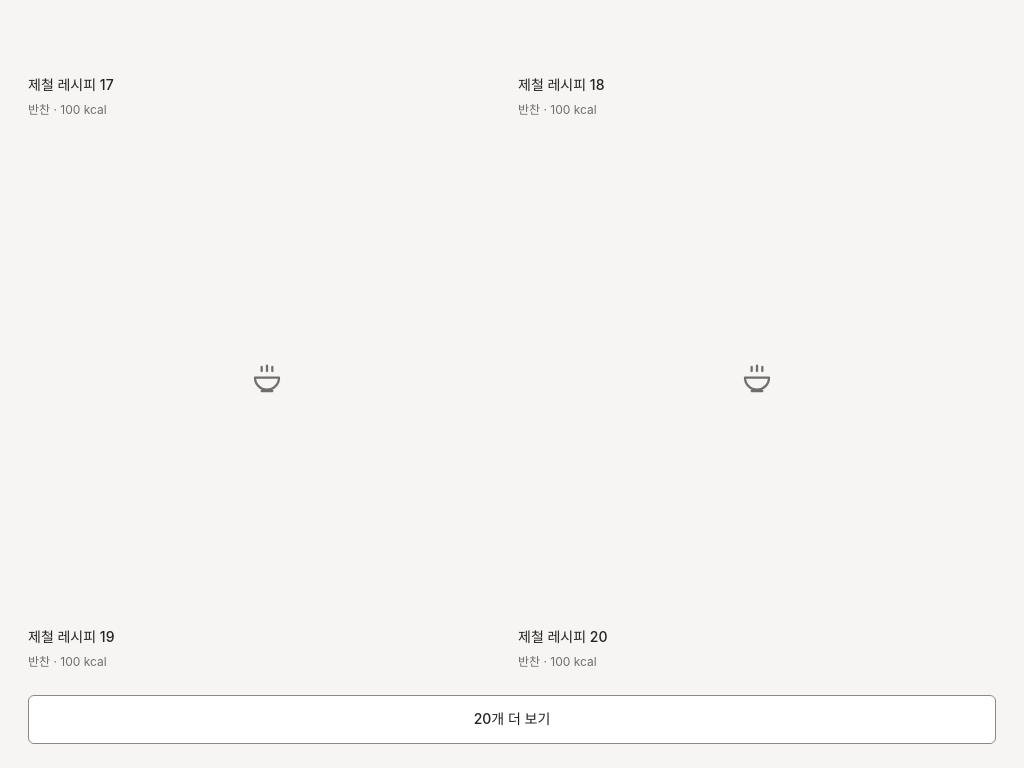
Scenario: 테마 전체보기 › 같은 월의 목록을 20개씩 누적하고 마지막 페이지에서 끝을 안내한다
The image size is (1024, 768).
(page scrolled)
Click the button "20개 더 보기". click: [512, 720]
box: [28,695,996,744]
(page scrolled)
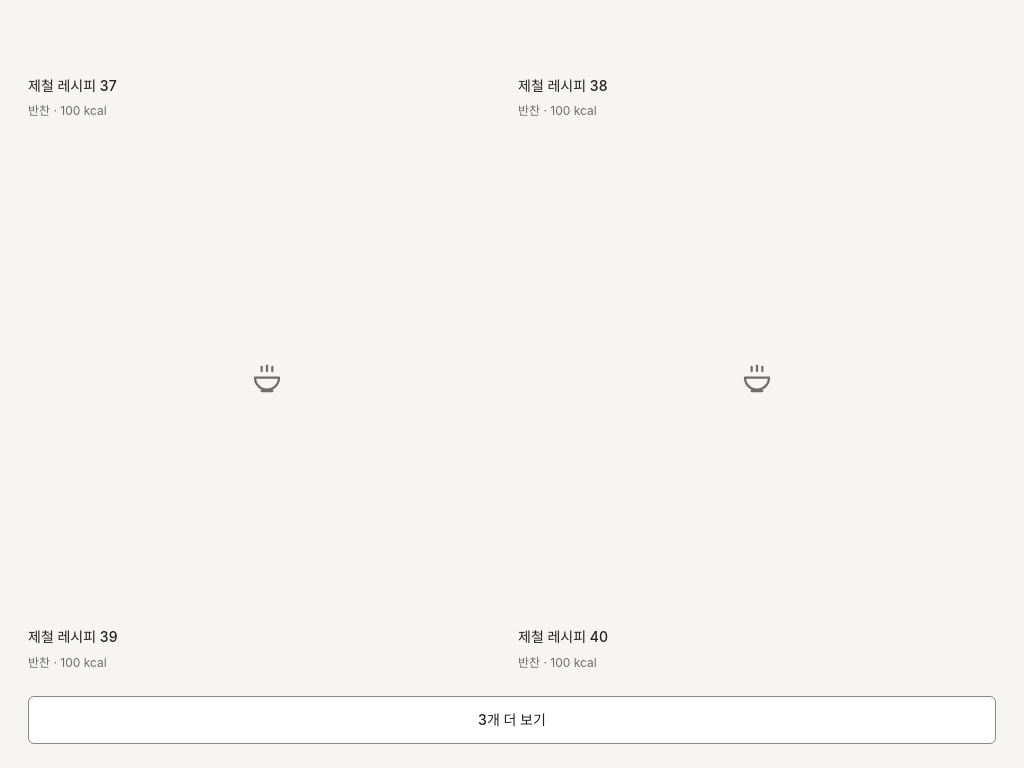
Click the button "3개 더 보기". click: [512, 720]
box: [28,696,996,744]
(page scrolled)
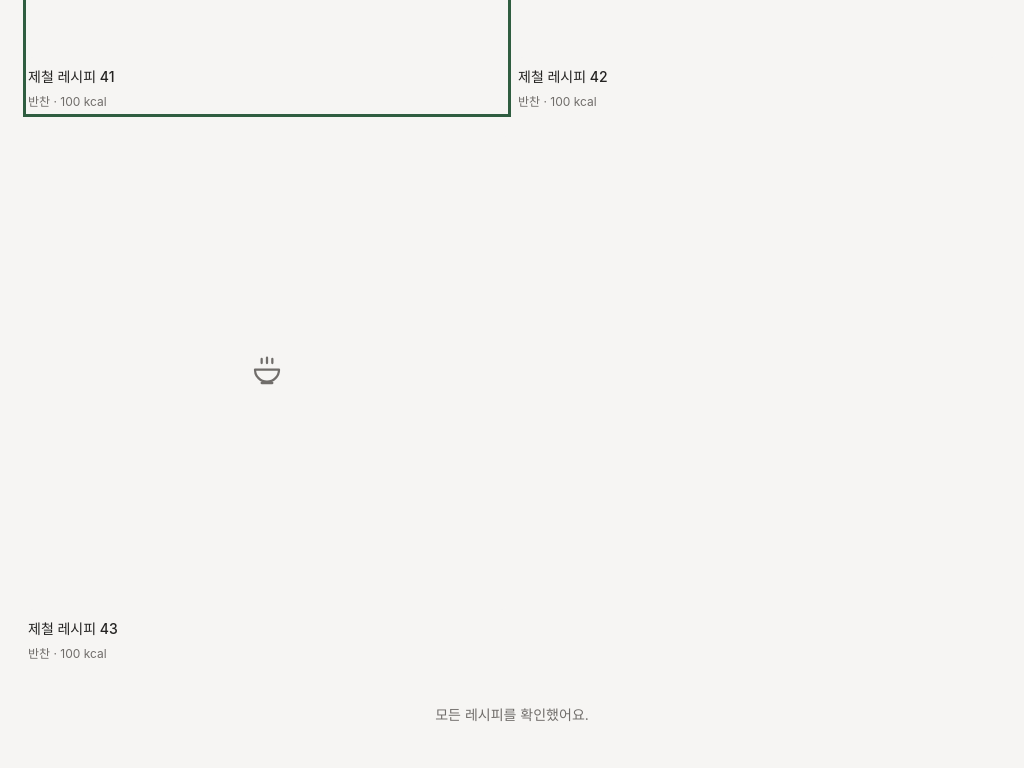
Expected: the text "모든 레시피를 확인했어요." is shown, [435,706,589,723]
Expected: the button "더 보기" is gone
